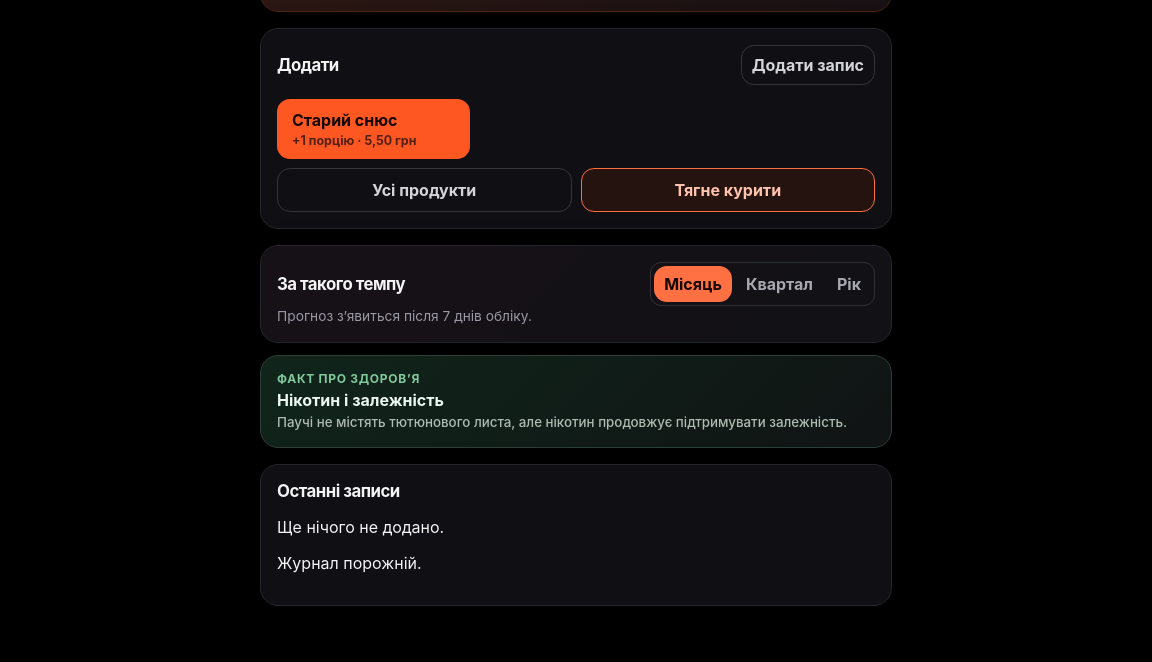
Scenario: App › opens product-specific health details with a source link
This screenshot has width=1152, height=662.
(page scrolled)
Click the button "про здоров’я" at (349, 378), box [260, 355, 892, 448]
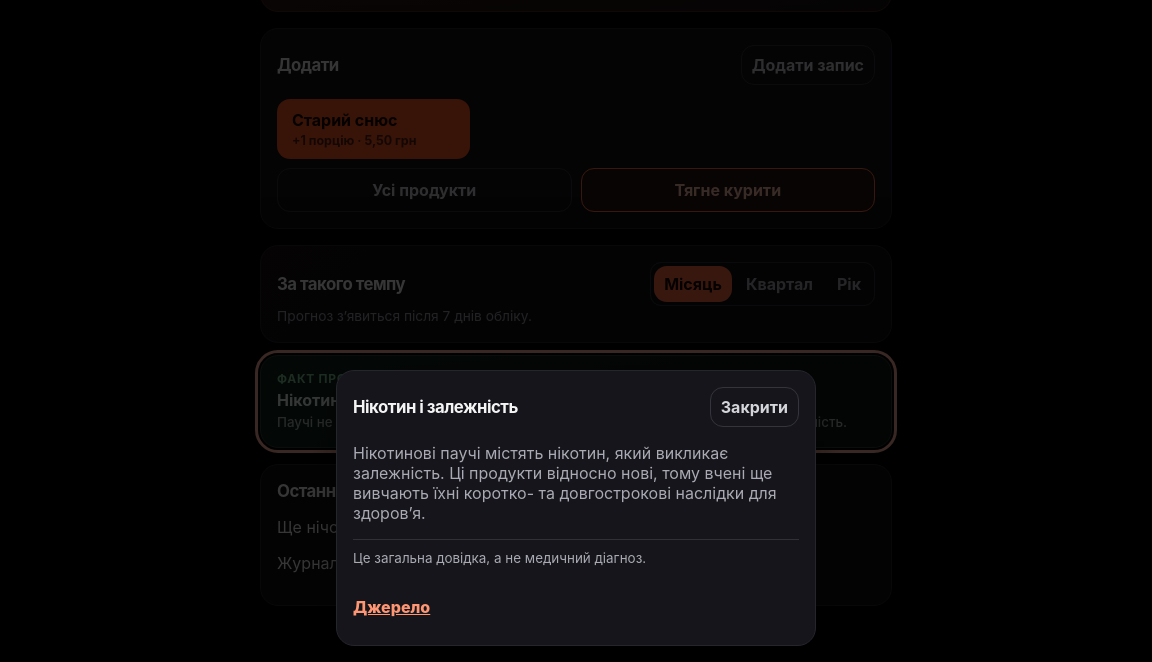
Expected: the dialog named "Про здоров’я" does not show "спричиняють рак", [336, 370, 816, 646]
Expected: the dialog named "Про здоров’я" shows "Нікотин і залежність", [353, 397, 518, 417]
